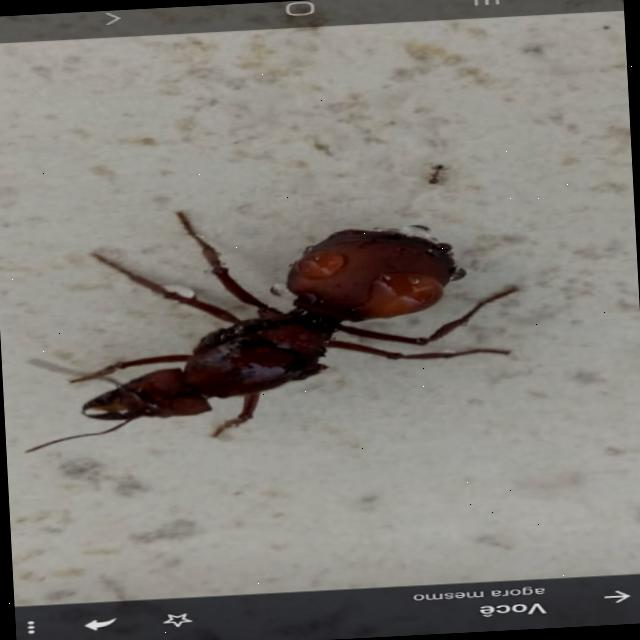Alive-Female-Dealate: (9, 193, 528, 454)
